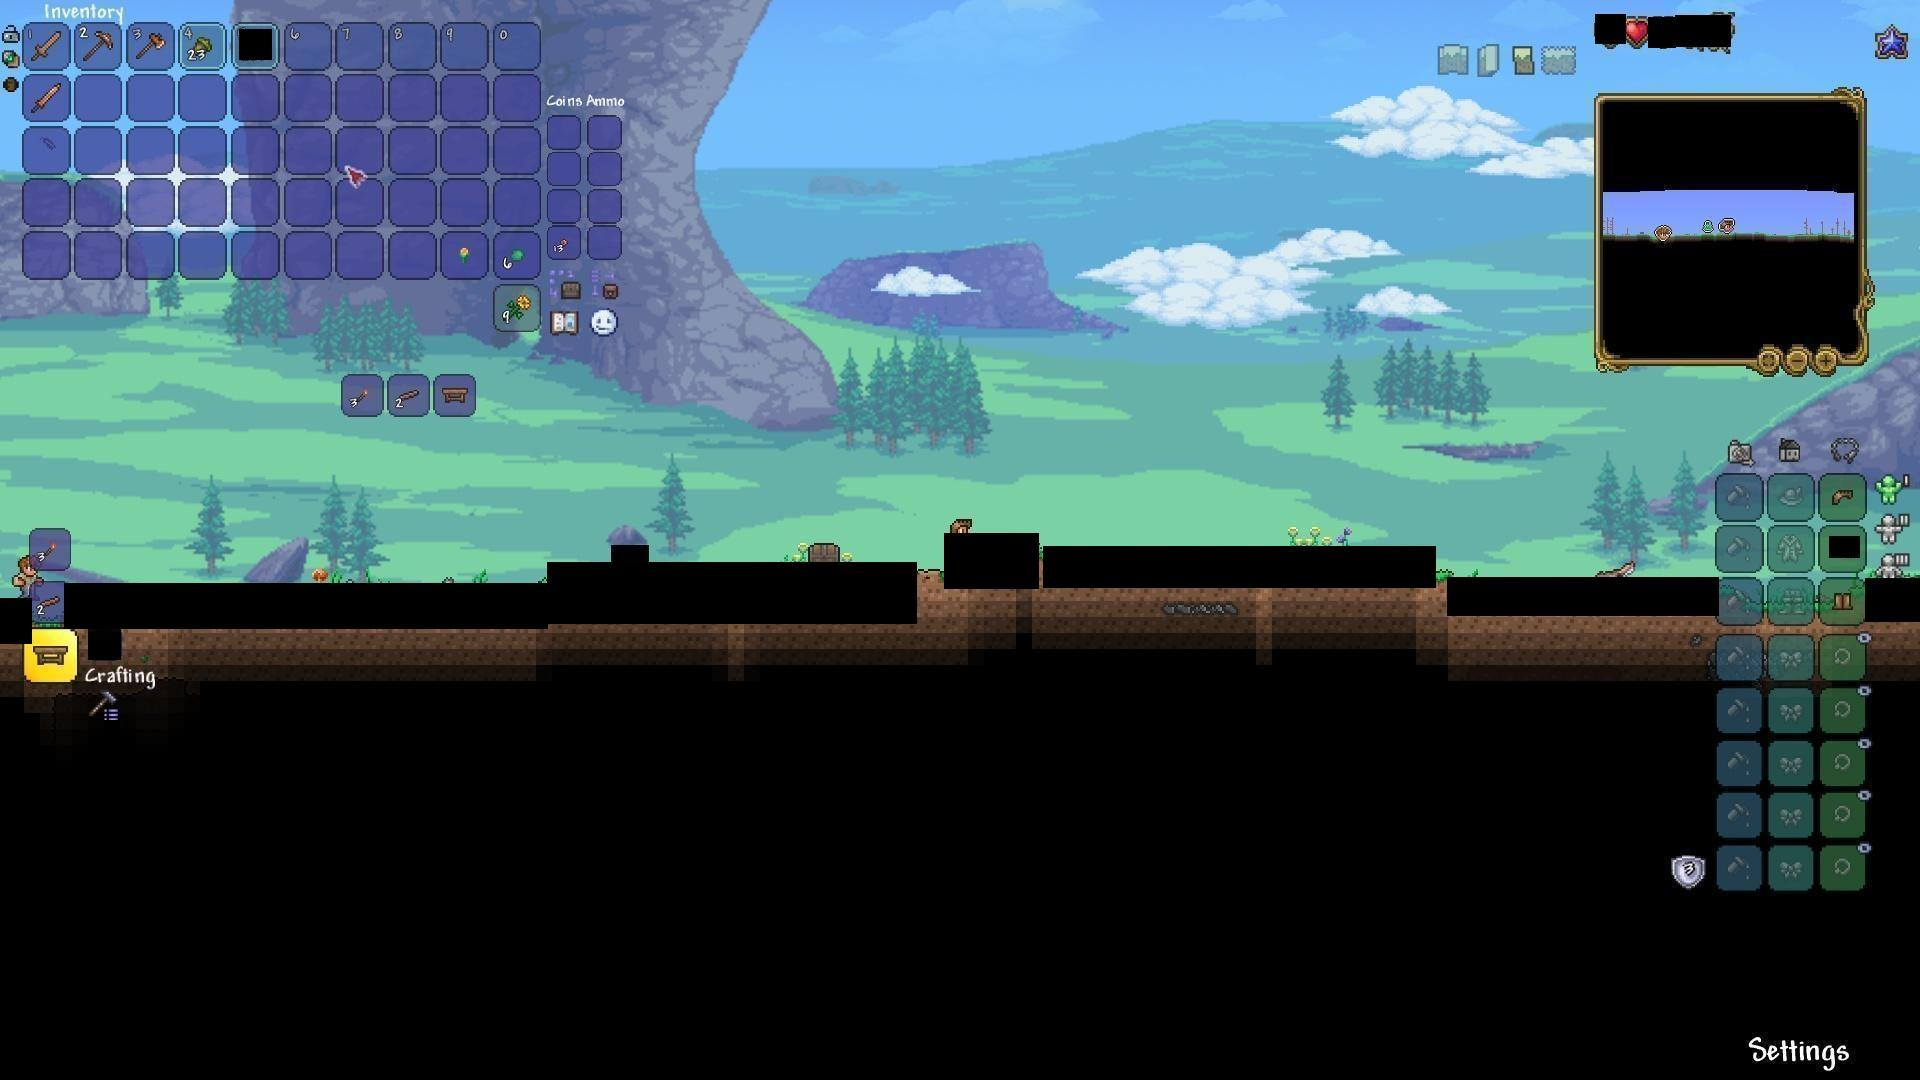heart: (1625, 17, 1651, 46)
helmet: (1826, 483, 1858, 512)
legs: (1832, 587, 1855, 615)
workbench: (436, 382, 473, 407), (34, 644, 65, 669)
